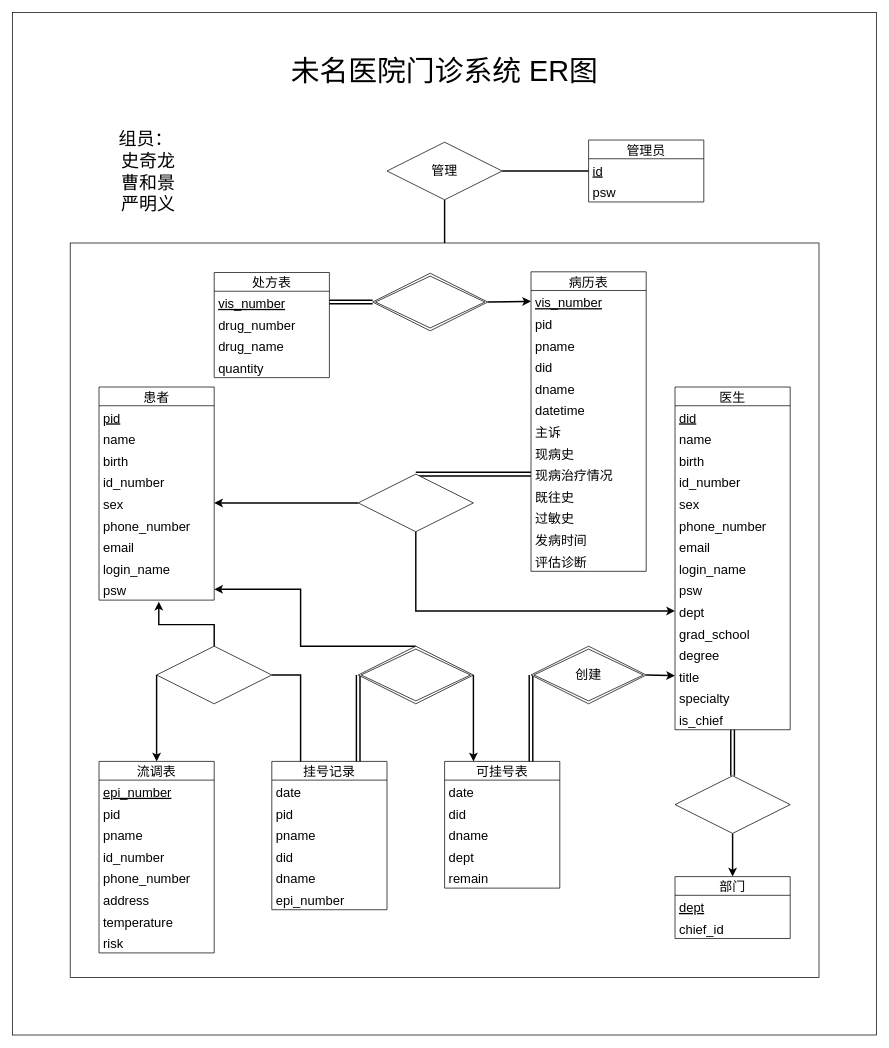
Some shapes in this 889 by 1048 pixel diagram are drawn without their labels. Each missing label, with the centre of its shape:
填流调表: the point at 214,674
开药: the point at 430,302
挂号: the point at 415,674
看病: the point at 415,502
隶属: the point at 732,804
